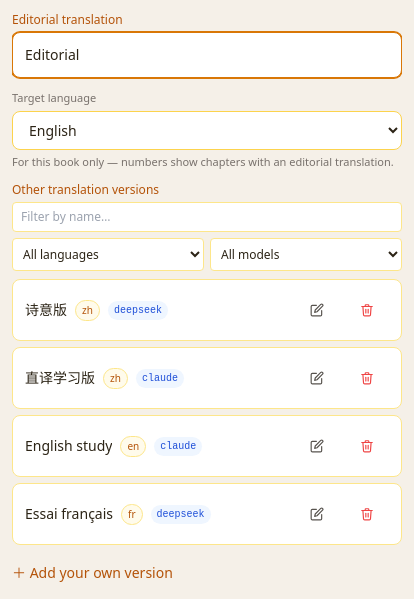
Test: version filter › filters by language and model
Select "中文" in the dropdown named "Filter versions by language" at (108, 254), box x1=12 y1=238 x2=204 y2=271
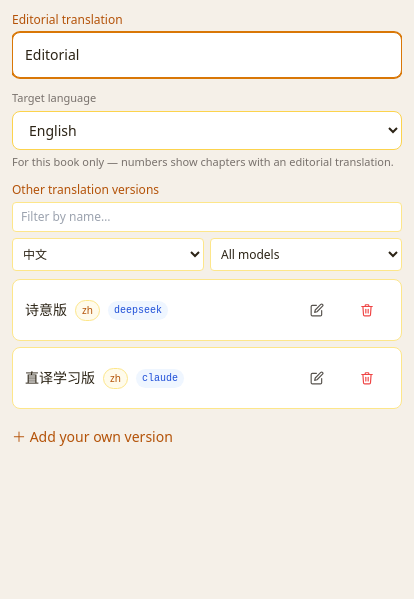
Result: the radio button labelled "English study" is gone
Select "claude-sonnet-5" in the dropdown named "Filter versions by model" at (306, 254), box x1=210 y1=238 x2=402 y2=271
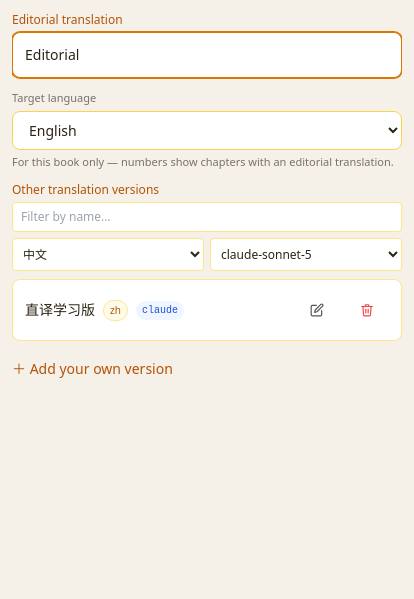
Expected: the radio button labelled "直译学习版 zh claude" is shown, x1=25 y1=288 x2=289 y2=332
Result: the radio button labelled "诗意版" is gone
